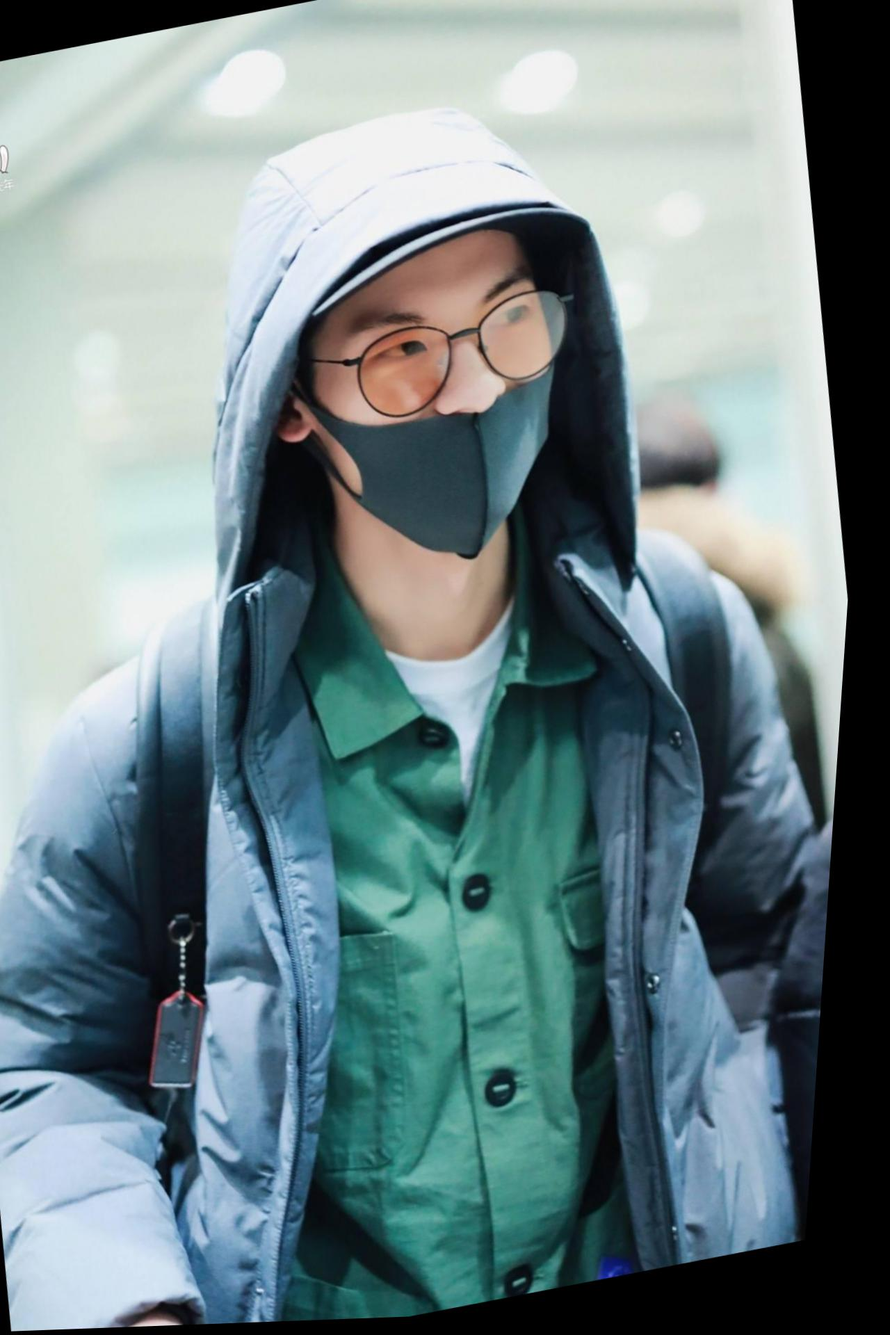WRONG: (294, 241, 590, 574)
